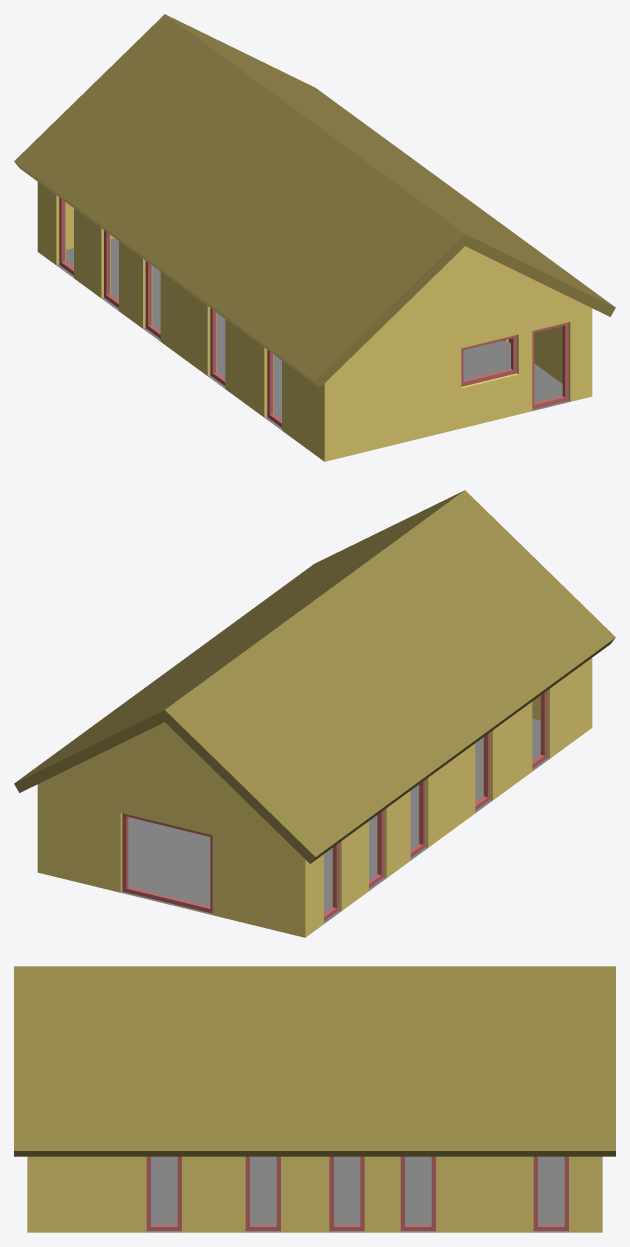
The model's file is result.glb.
The picture shows the model from 3 angles, top to bottom: view 1: azimuth 30°, elevation 25°; view 2: azimuth 150°, elevation 25°; view 3: azimuth 270°, elevation 25°; orthographic projection.
Parts seen in each view (by area): view 1: 591b1743-1308-459c-bcea-165b62898d50__undefined (×2), c5b0be86-af80-4212-bd80-bed416b33cc3__undefined, 66a7edbc-fadf-4a86-8600-a72d78d18aa2__Plane_14, 5300e7f6-cc0e-4f37-8f91-79a4cb5dc326__Box, 72904ccd-2cab-4f58-b968-c2342be61b13__Box_3; view 2: 591b1743-1308-459c-bcea-165b62898d50__undefined (×2), c5b0be86-af80-4212-bd80-bed416b33cc3__undefined, 66a7edbc-fadf-4a86-8600-a72d78d18aa2__Plane_14, ef614e45-5a98-4b2c-b826-7b791fa65519__Box_9; view 3: 591b1743-1308-459c-bcea-165b62898d50__undefined, c5b0be86-af80-4212-bd80-bed416b33cc3__undefined, 66a7edbc-fadf-4a86-8600-a72d78d18aa2__Plane_14, 91e40fbb-1d96-4352-b442-20e5898ba2ef__Box_33, 758ce047-6418-4ed9-88cc-fabd496ba416__Box_27, 2a923a47-2cdb-493e-86e6-f4610c5b13a7__Box_30, cb5fb91a-45b0-452f-8d88-51ccb37df986__Box_36, e8229648-73cc-461a-89b7-5938a0c1cb5d__Box_39.
Part boxes in pixels (bbox=[...]): 591b1743-1308-459c-bcea-165b62898d50__undefined (×2): bbox=[14, 14, 615, 387]; c5b0be86-af80-4212-bd80-bed416b33cc3__undefined: bbox=[37, 182, 592, 461]; 66a7edbc-fadf-4a86-8600-a72d78d18aa2__Plane_14: bbox=[56, 238, 569, 430]; 5300e7f6-cc0e-4f37-8f91-79a4cb5dc326__Box: bbox=[532, 322, 568, 409]; 72904ccd-2cab-4f58-b968-c2342be61b13__Box_3: bbox=[461, 335, 516, 386]; 591b1743-1308-459c-bcea-165b62898d50__undefined (×2): bbox=[14, 490, 615, 863]; c5b0be86-af80-4212-bd80-bed416b33cc3__undefined: bbox=[37, 658, 592, 937]; 66a7edbc-fadf-4a86-8600-a72d78d18aa2__Plane_14: bbox=[121, 718, 549, 923]; ef614e45-5a98-4b2c-b826-7b791fa65519__Box_9: bbox=[122, 813, 212, 913]; 591b1743-1308-459c-bcea-165b62898d50__undefined: bbox=[14, 966, 615, 1156]; c5b0be86-af80-4212-bd80-bed416b33cc3__undefined: bbox=[27, 1156, 602, 1232]; 66a7edbc-fadf-4a86-8600-a72d78d18aa2__Plane_14: bbox=[146, 1156, 568, 1232]; 91e40fbb-1d96-4352-b442-20e5898ba2ef__Box_33: bbox=[329, 1156, 364, 1230]; 758ce047-6418-4ed9-88cc-fabd496ba416__Box_27: bbox=[146, 1156, 181, 1230]; 2a923a47-2cdb-493e-86e6-f4610c5b13a7__Box_30: bbox=[245, 1156, 280, 1230]; cb5fb91a-45b0-452f-8d88-51ccb37df986__Box_36: bbox=[400, 1156, 435, 1230]; e8229648-73cc-461a-89b7-5938a0c1cb5d__Box_39: bbox=[533, 1156, 568, 1230].
Size of the model in its own units: 789 by 500 by 1360.
